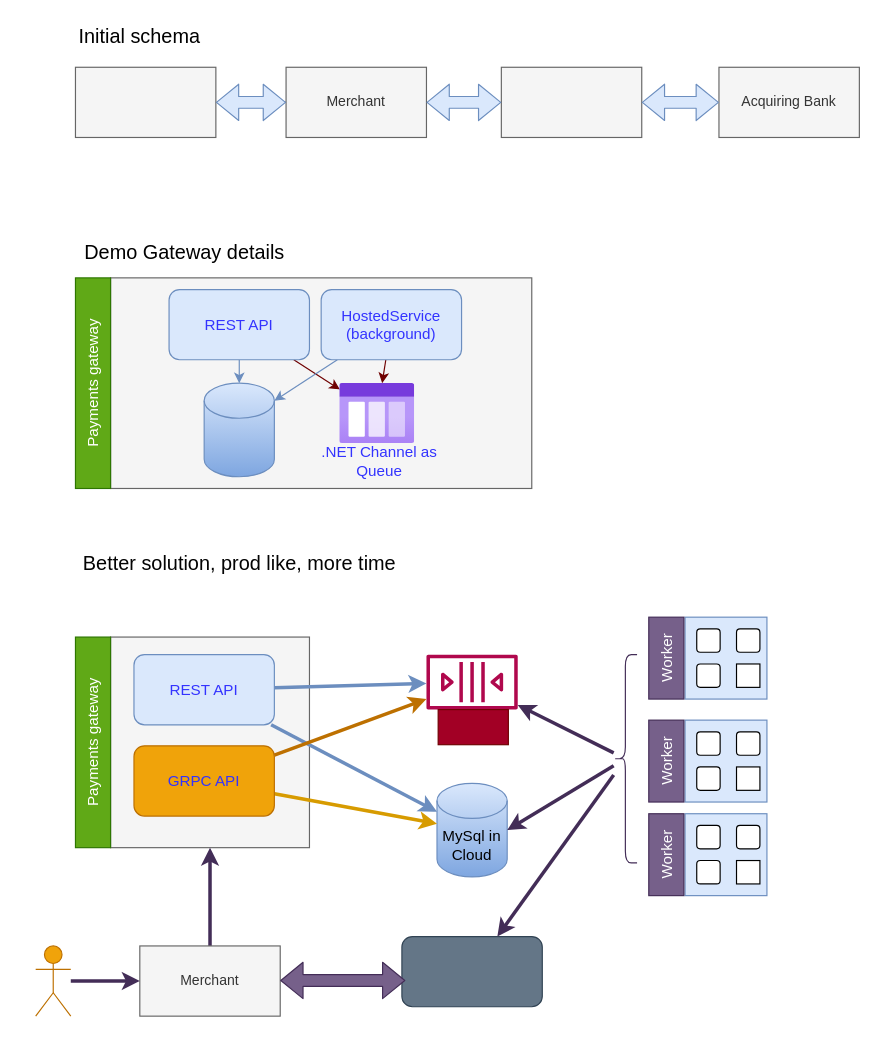
Image size: 880x1062. Some labels were removed from this diagram. Each missing label, with the box of its shape:
Customer: (35, 945, 71, 1016)
In memory storage: (203, 382, 274, 477)
Payment Gateway: (500, 66, 642, 137)
Push service: (401, 935, 542, 1007)
RabbitMQ: (437, 708, 508, 745)
Shopper: (74, 66, 216, 137)
